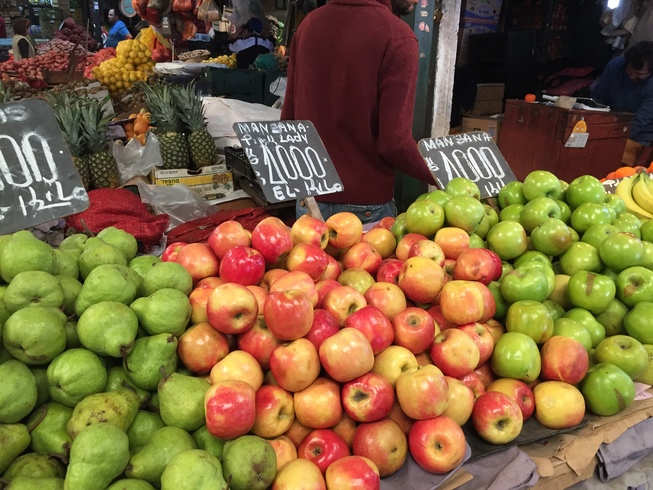precio: (1, 100, 85, 230), (234, 118, 348, 206), (417, 126, 514, 196)
